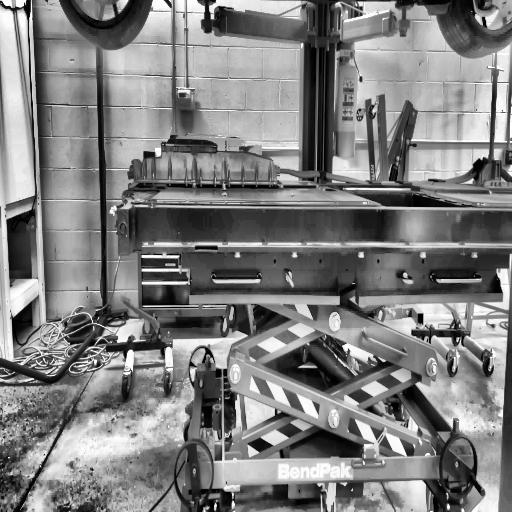b_casing: (106, 130, 512, 334)
